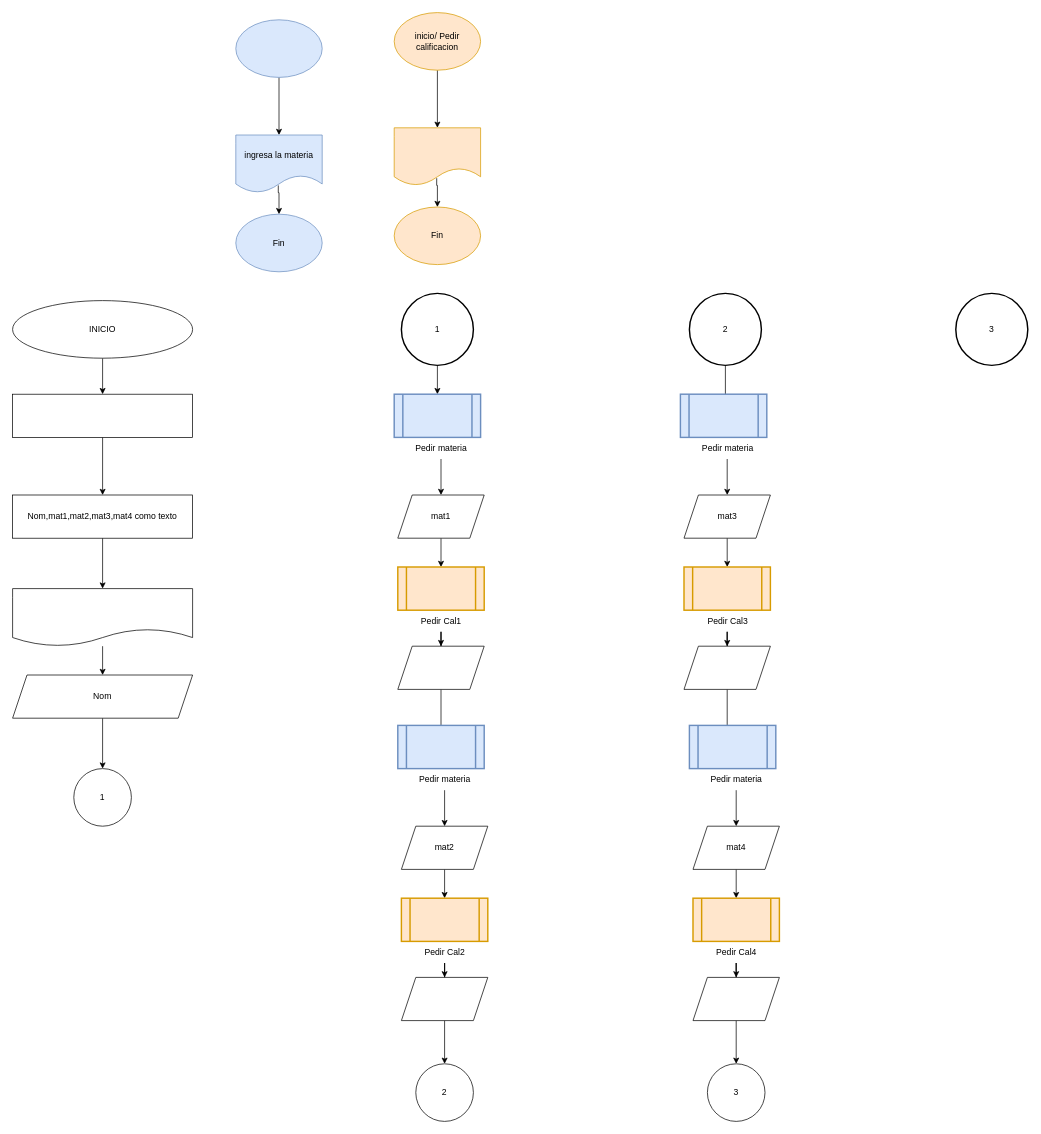
This 1041x1134 diagram has some shape labels left out. Each missing label, with the centre of its shape:
"solicita oms nombre del alumno: pixel 102 617
cal1: pixel 440 667
cal1, cal2,cal3,cl4,prom,sum como real: pixel 102 415
cal2: pixel 444 999
cal3: pixel 726 667
cal4: pixel 735 999
ingresa la calificacion: pixel 437 156
inicio/ Pedir material: pixel 278 48
